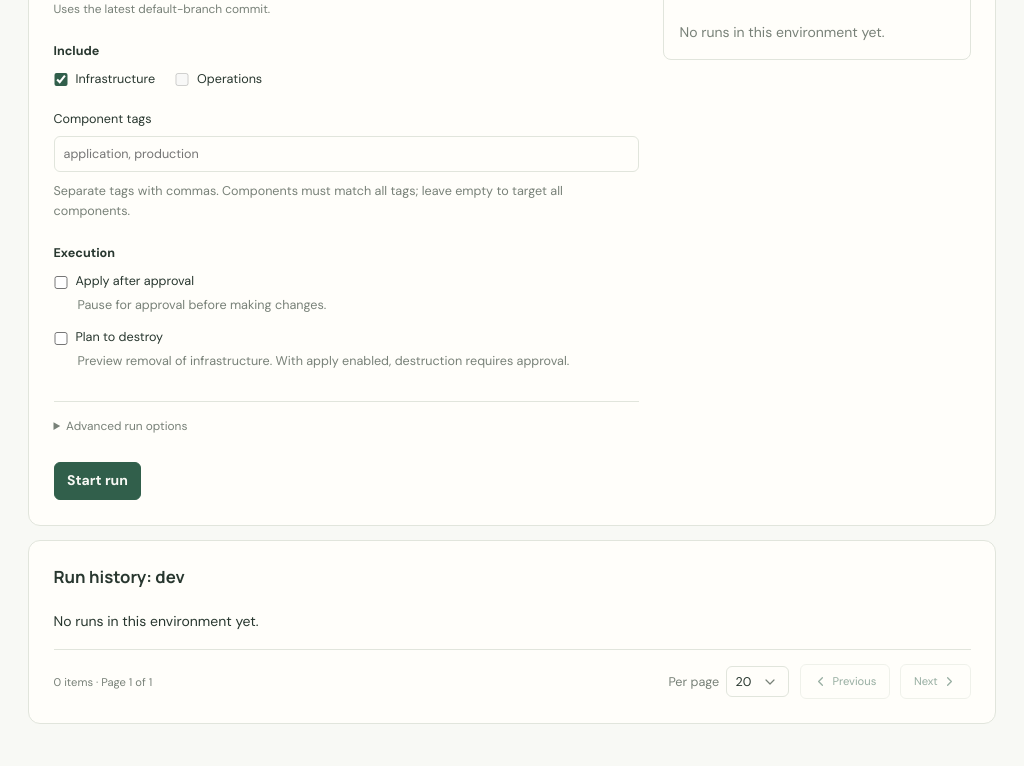
Scenario: shows the local backend override within advanced options
(page scrolled)
Click the heading "Advanced run options".
click(127, 426)  # box 66,418 -> 187,434
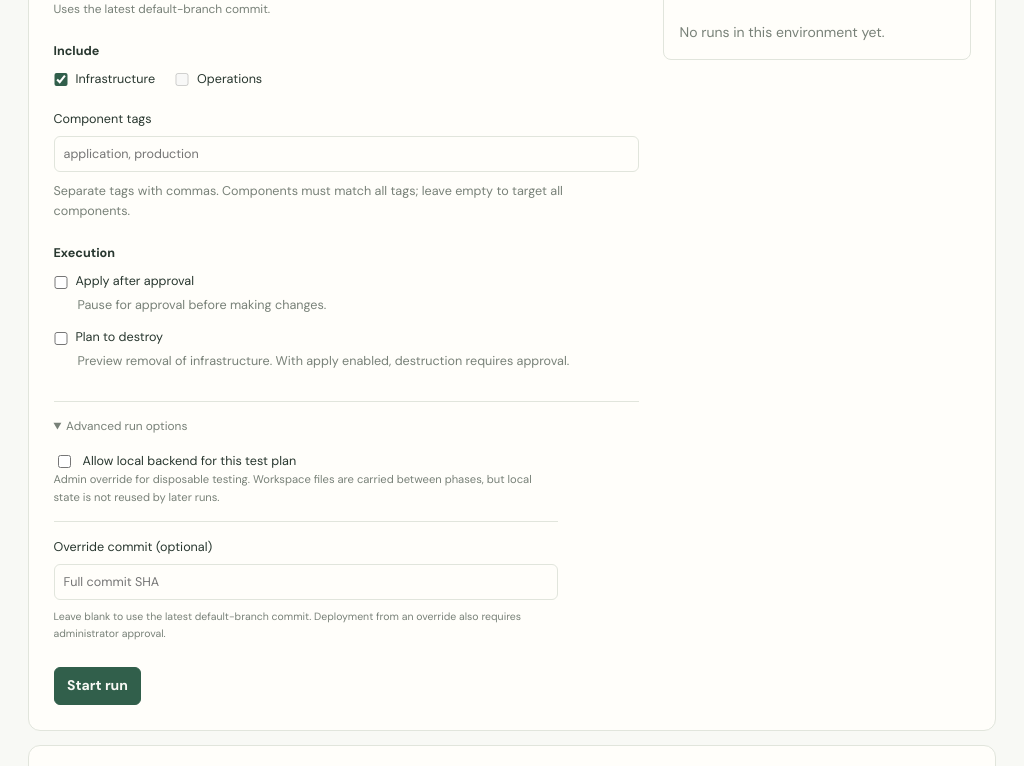
Now the checkbox named "allow_local_backend" is shown
Click the checkbox named "allow_local_backend".
click(64, 461)  # box 58,455 -> 70,468
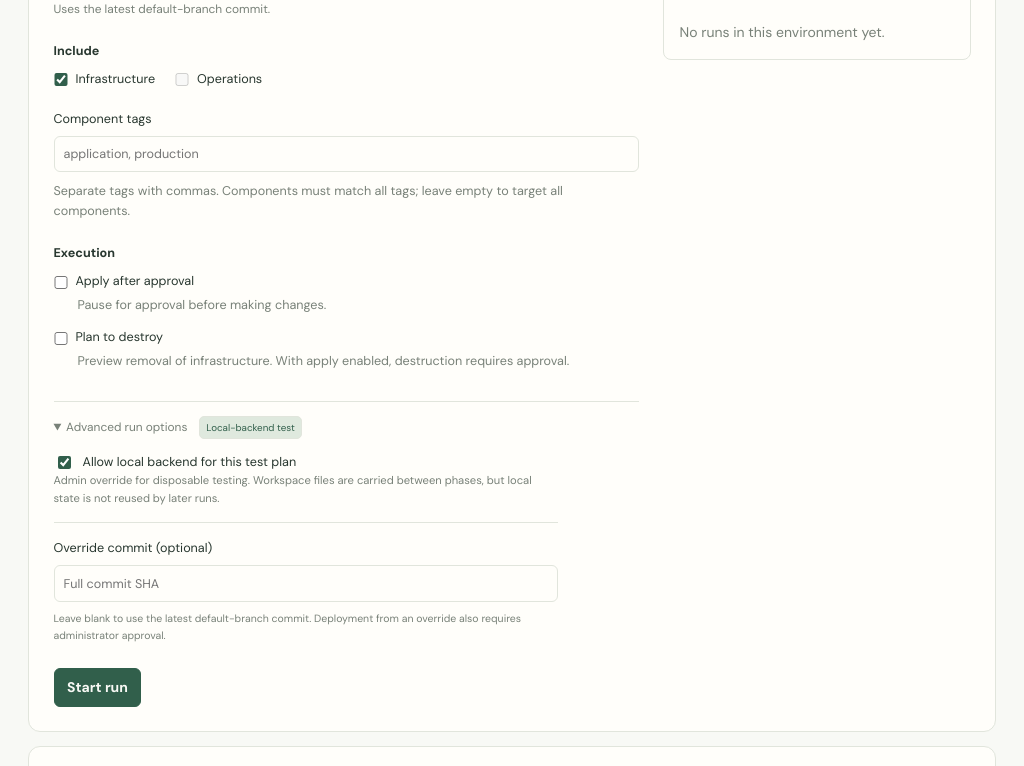
Now the element with class "advanced-run-options" shows "Local-backend test", box 206,421 -> 295,434
